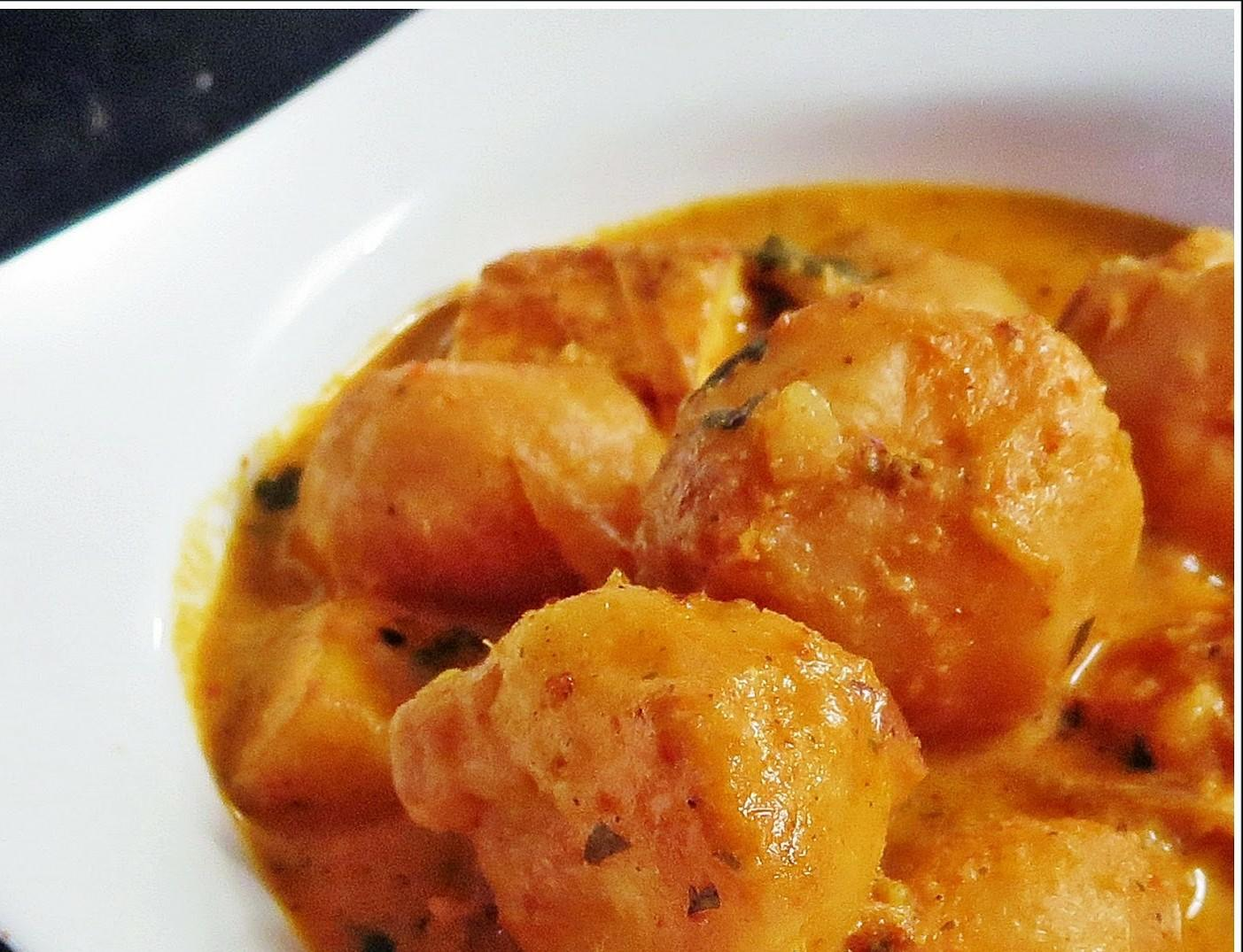DumAloo: (174, 174, 1243, 952)
